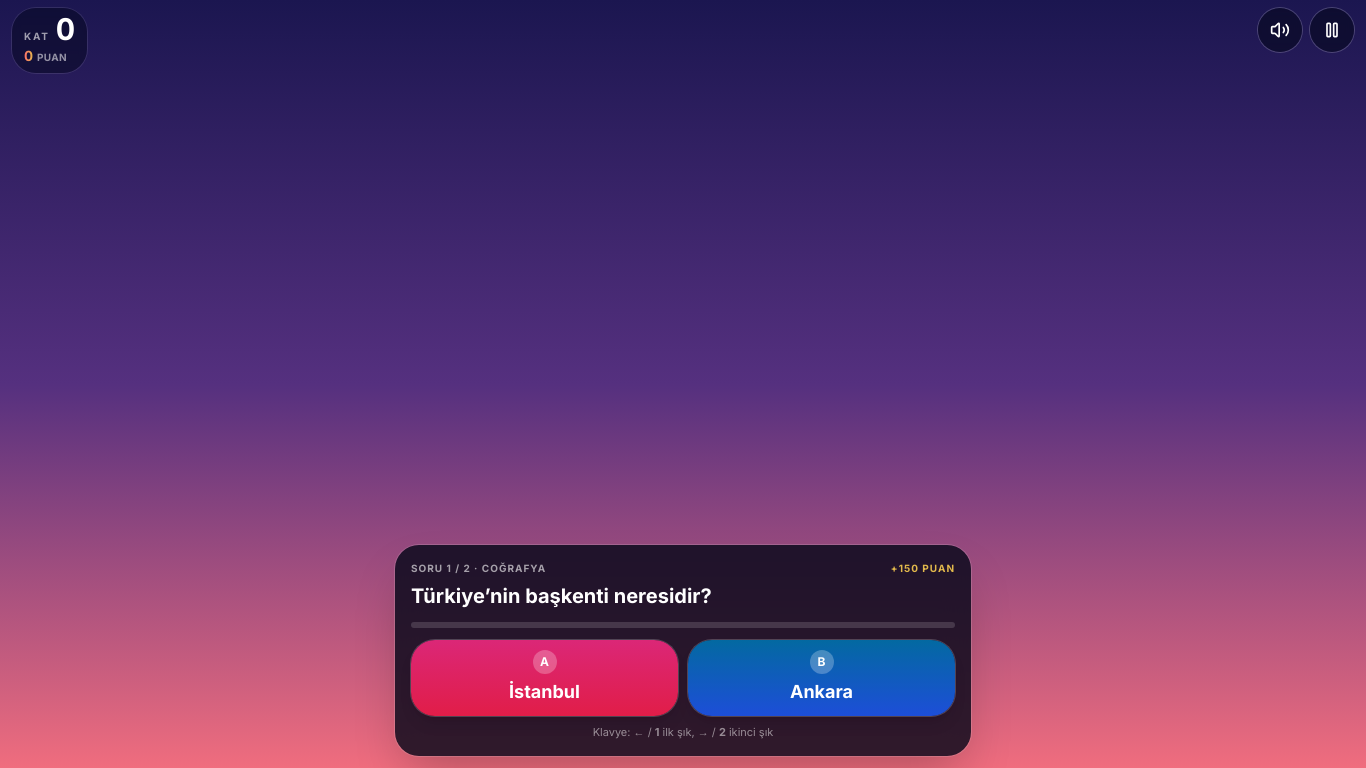
TowerPlayPage › mola: buton ve Esc; molada soru gizlenir; devam motoru sürdürür
Click the button named "Duraklat" at [1332, 30], box [1310,8,1354,52]
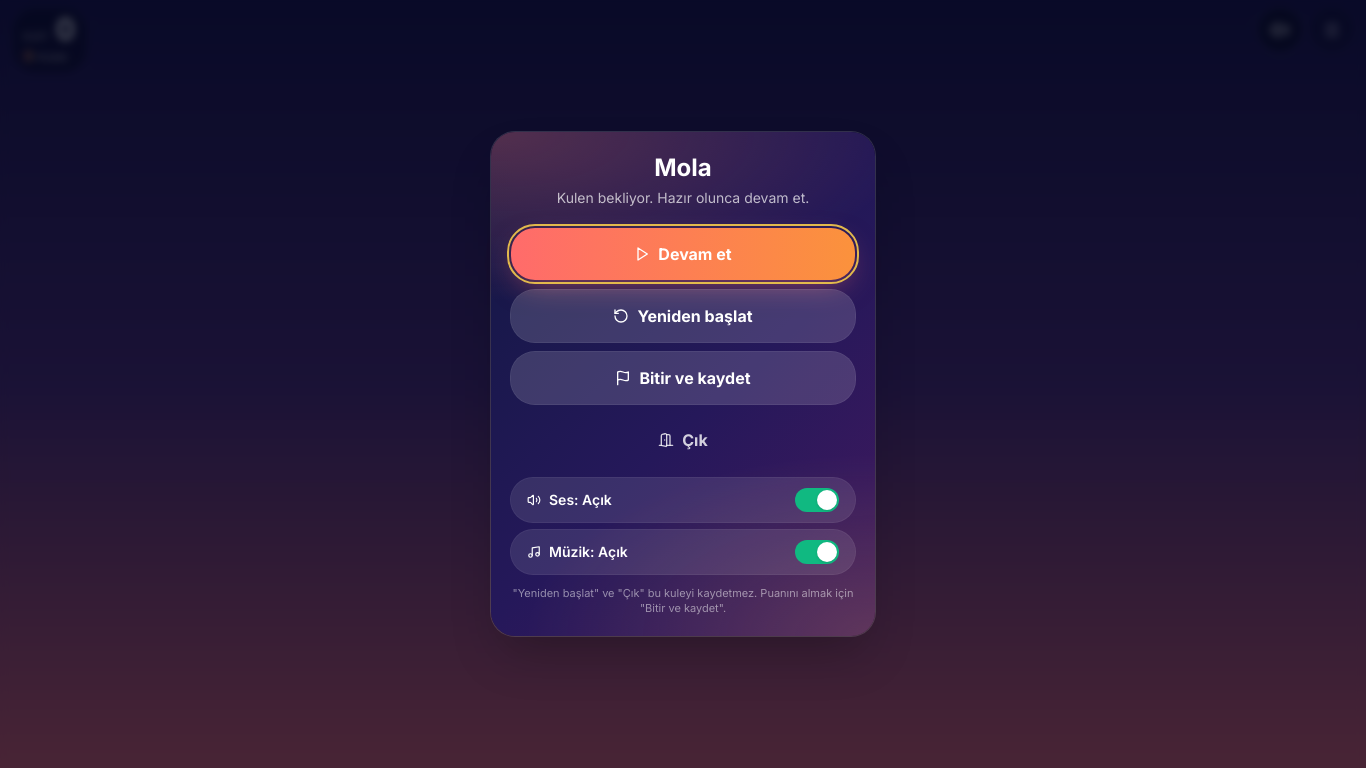
Now the dialog "Mola" is shown, box [491,132,875,636]
Press Escape
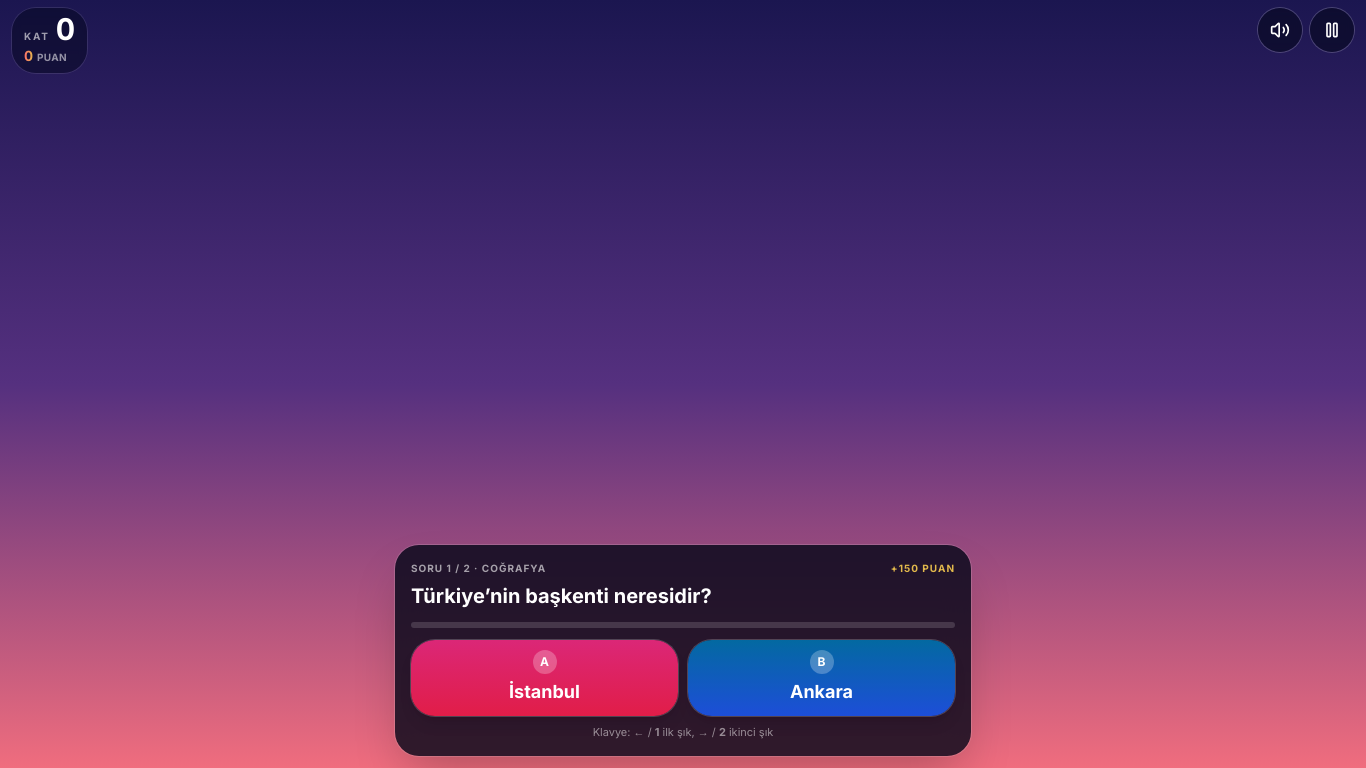
Now the heading "Mola" is gone
